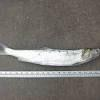Tenpounder: (1, 38, 100, 73)
